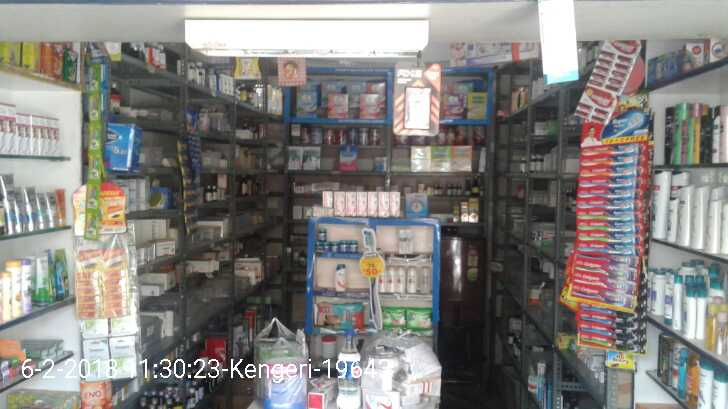beauty: (332, 262, 351, 297), (419, 267, 432, 295), (385, 267, 398, 293), (396, 266, 408, 293), (407, 266, 417, 293)
pharmacy: (313, 301, 365, 327), (380, 302, 405, 330), (407, 305, 432, 332), (319, 237, 331, 253), (316, 225, 328, 240), (347, 239, 359, 254), (314, 238, 324, 252), (328, 239, 338, 252), (338, 238, 346, 251)
